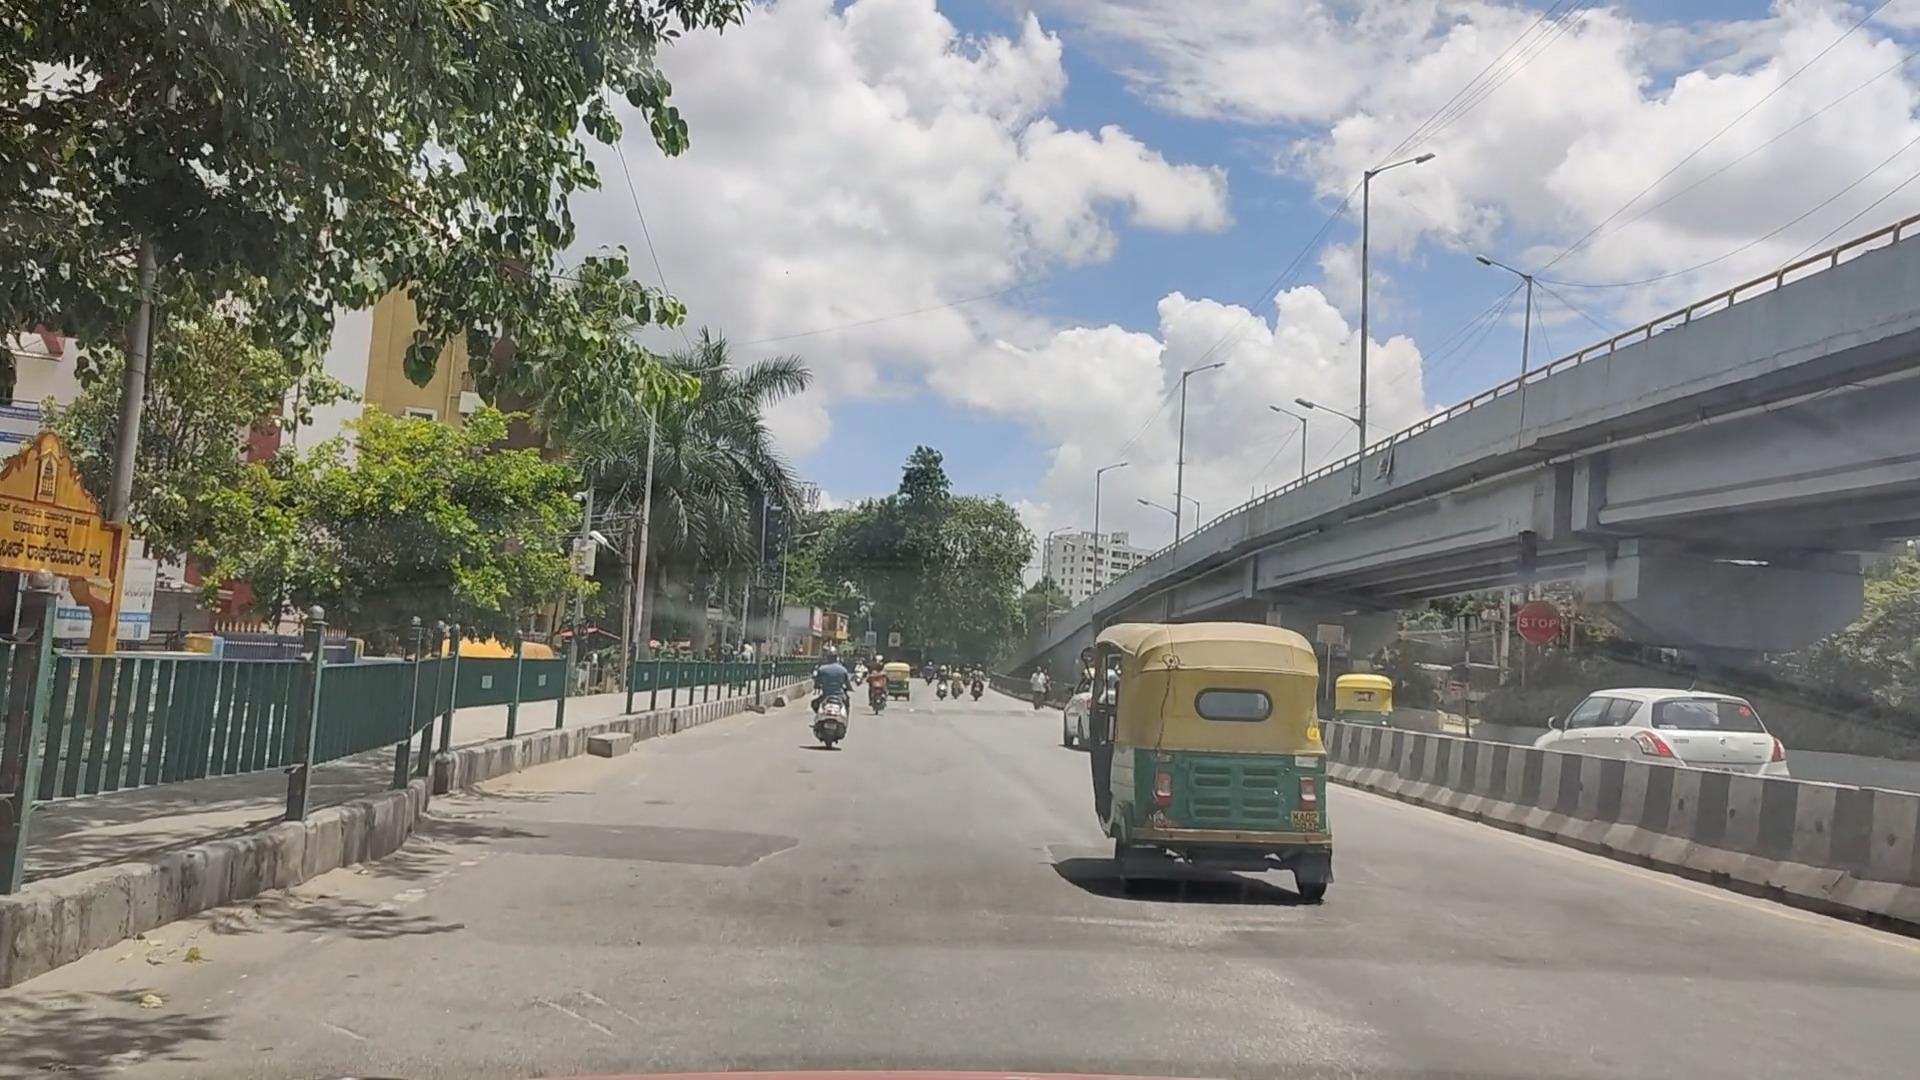LMV: (1097, 628, 1327, 903)
RoadDamages: (1141, 918, 1403, 1080)
